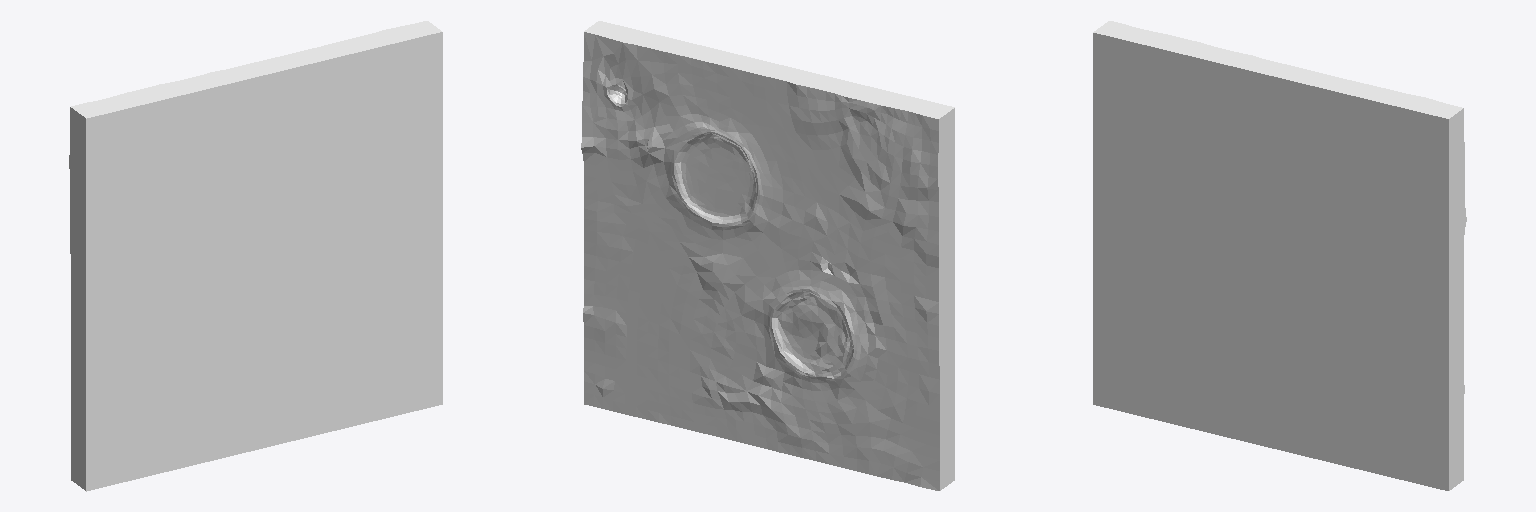
robot.urdf — lunar_surface.urdf:
<?xml version="1.0" ?>
<robot name="lunar_surface.urdf">
  <link name="baseLink">
    <inertial>
      <origin rpy="0 0 0" xyz="0 0 0"/>
       <mass value="0.0"/>
       <inertia ixx="0" ixy="0" ixz="0" iyy="0" iyz="0" izz="0"/>
    </inertial>
    <visual>
      <origin rpy="0 0 0" xyz="0 0 0"/>
      <geometry>
        <mesh filename="lunar_surface.obj" scale="1.0 1.0 1.0"/>
      </geometry>
      <material name="white">
       <color rgba="1 1 1 1"/>
     </material>
    </visual>
    <collision>
      <origin rpy="0 0 0" xyz="0 0 0"/>
      <geometry>
        <mesh filename="lunar_surface.obj" scale="1.0 1.0 1.0"/>
        <!-- You could also specify the collision (for the lunar_surface) with a "box" tag: -->
        <!-- <box size=".06 .06 .06"/> -->
      </geometry>
    </collision>
  </link>
</robot>
        

--- Facts derived from the render (not from the file) ---
The picture shows the robot from 3 angles, left to right: view 1: azimuth 30°, elevation 25°; view 2: azimuth 150°, elevation 25°; view 3: azimuth 330°, elevation 25°; orthographic projection.
Robot: lunar_surface.urdf — 1 links, 0 joints (none); root link baseLink; default pose: all joints at 0.
Visible links, largest first — view 1: baseLink; view 2: baseLink; view 3: baseLink.
Boxes of the visible links, box(x1,y1,x2,y2) form: baseLink: box(69, 21, 442, 491); baseLink: box(581, 21, 954, 490); baseLink: box(1093, 21, 1466, 490).
Size in the robot's own frame: 1998 by 181 by 1998 metres.
Meshes: 1 distinct files referenced, 1 mesh visuals loaded (1 OBJ).